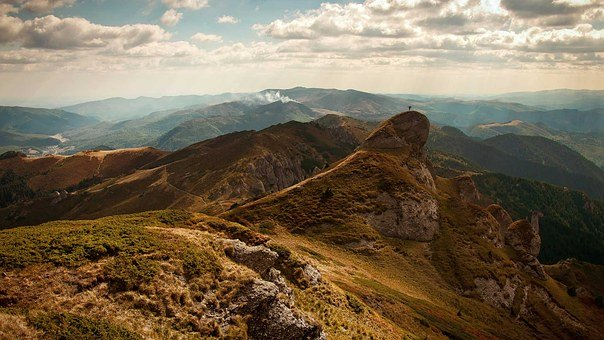mountain: (1, 86, 600, 337), (10, 89, 596, 154)
sky: (1, 4, 603, 93)
